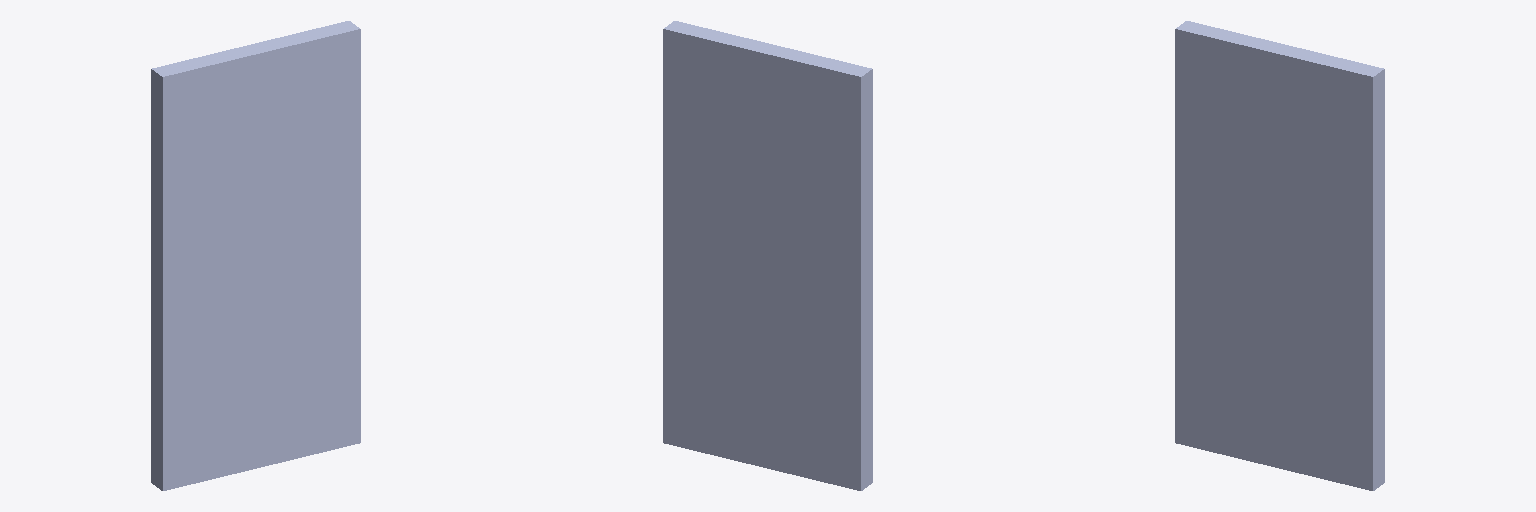
URDF robot description (test_urdf):
<?xml version="1.0" encoding="utf-8"?>
<!-- This URDF was automatically created by SolidWorks to URDF Exporter! Originally created by [author] ([email redacted]) 
     Commit Version: 1.5.1-0-g916b5db  Build Version: 1.5.7152.31018
     For more information, please see http://wiki.ros.org/sw_urdf_exporter -->
<robot
  name="test_urdf">
  <link
    name="base_link">
    <inertial>
      <origin
        xyz="8.60585474410372E-19 -0.005 -1.68457009048125E-17"
        rpy="0 0 0" />
      <mass
        value="0.2" />
      <inertia
        ixx="0.000668333333333333"
        ixy="7.1783218836645E-22"
        ixz="8.75854655006207E-20"
        iyy="0.000833333333333334"
        iyz="-4.07181612645941E-20"
        izz="0.000168333333333333" />
    </inertial>
    <visual>
      <origin
        xyz="0 0 0"
        rpy="0 0 0" />
      <geometry>
        <mesh
          filename="package://test_urdf/meshes/base_link.STL" />
      </geometry>
      <material
        name="">
        <color
          rgba="0.792156862745098 0.819607843137255 0.933333333333333 1" />
      </material>
    </visual>
    <collision>
      <origin
        xyz="0 0 0"
        rpy="0 0 0" />
      <geometry>
        <mesh
          filename="package://test_urdf/meshes/base_link.STL" />
      </geometry>
    </collision>
  </link>
</robot>

--- Facts derived from the render (not from the file) ---
Views: 3 orthographic renders of the robot side by side, from view 1: azimuth 30°, elevation 25°; view 2: azimuth 150°, elevation 25°; view 3: azimuth 330°, elevation 25°.
Model test_urdf with 1 links and 0 joints (none), rooted at base_link, posed all joints at 0.
Visible links, largest first — view 1: base_link; view 2: base_link; view 3: base_link.
Link boxes in pixels (bbox=[...]): base_link: bbox=[151, 21, 360, 490]; base_link: bbox=[663, 21, 872, 490]; base_link: bbox=[1175, 21, 1384, 490].
Bounding box of the posed robot: 0.1 × 0.01 × 0.2 m (x, y, z).
1 mesh visuals loaded from 1 distinct referenced files (1 binary STL).